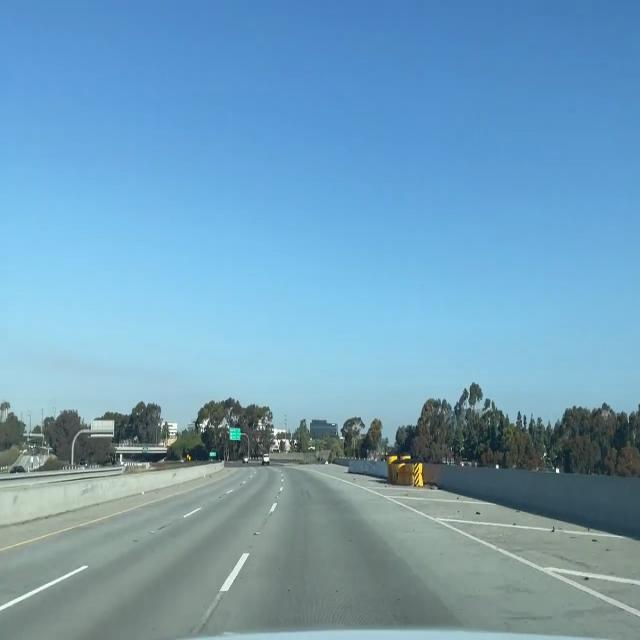street-signs: (229, 428, 241, 442), (209, 451, 217, 457)
